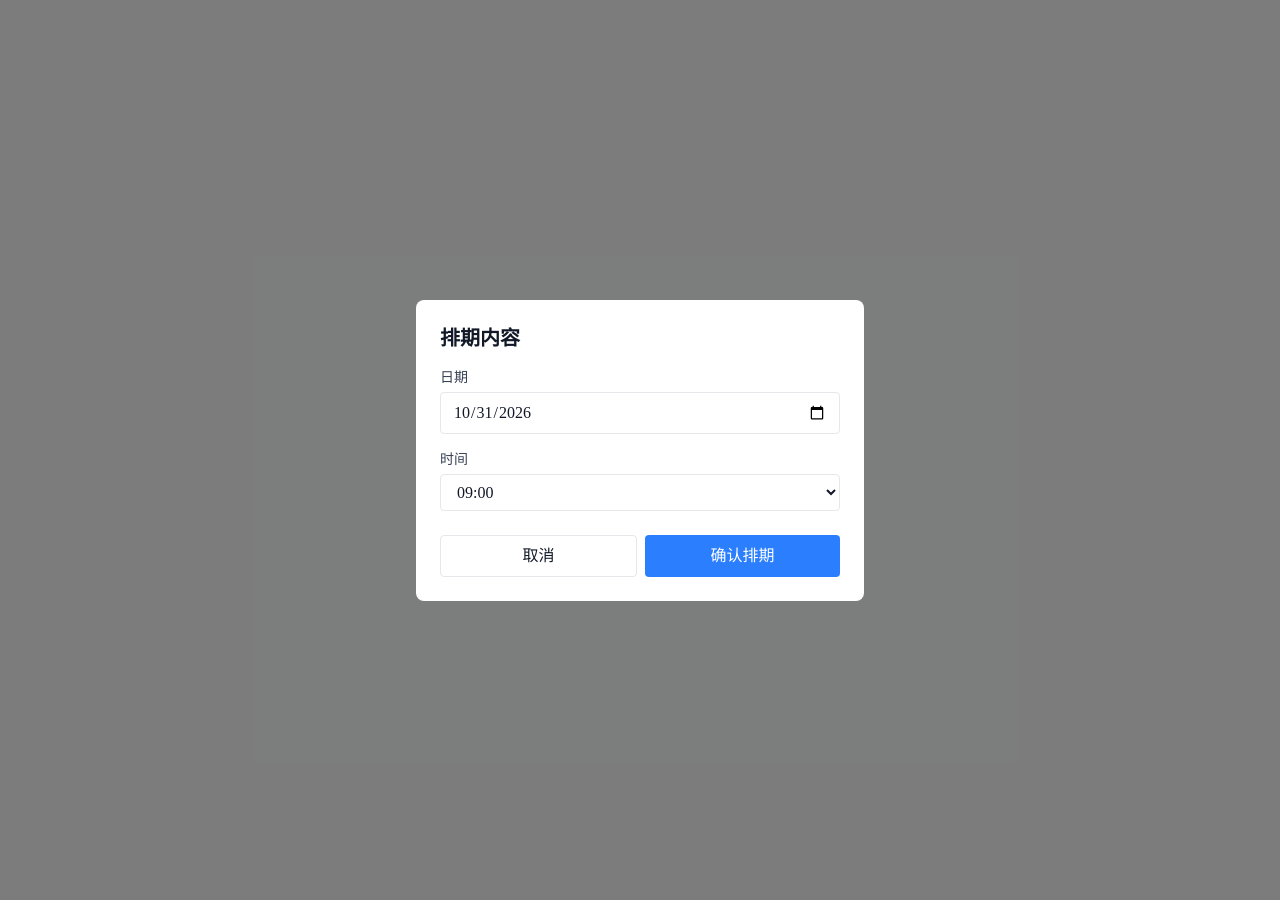
Test: ScheduleDialog › should show preview when date is selected
The image size is (1280, 900).
In the date field: coordinates (640, 412) [440,392,840,434], type "2025-01-15"
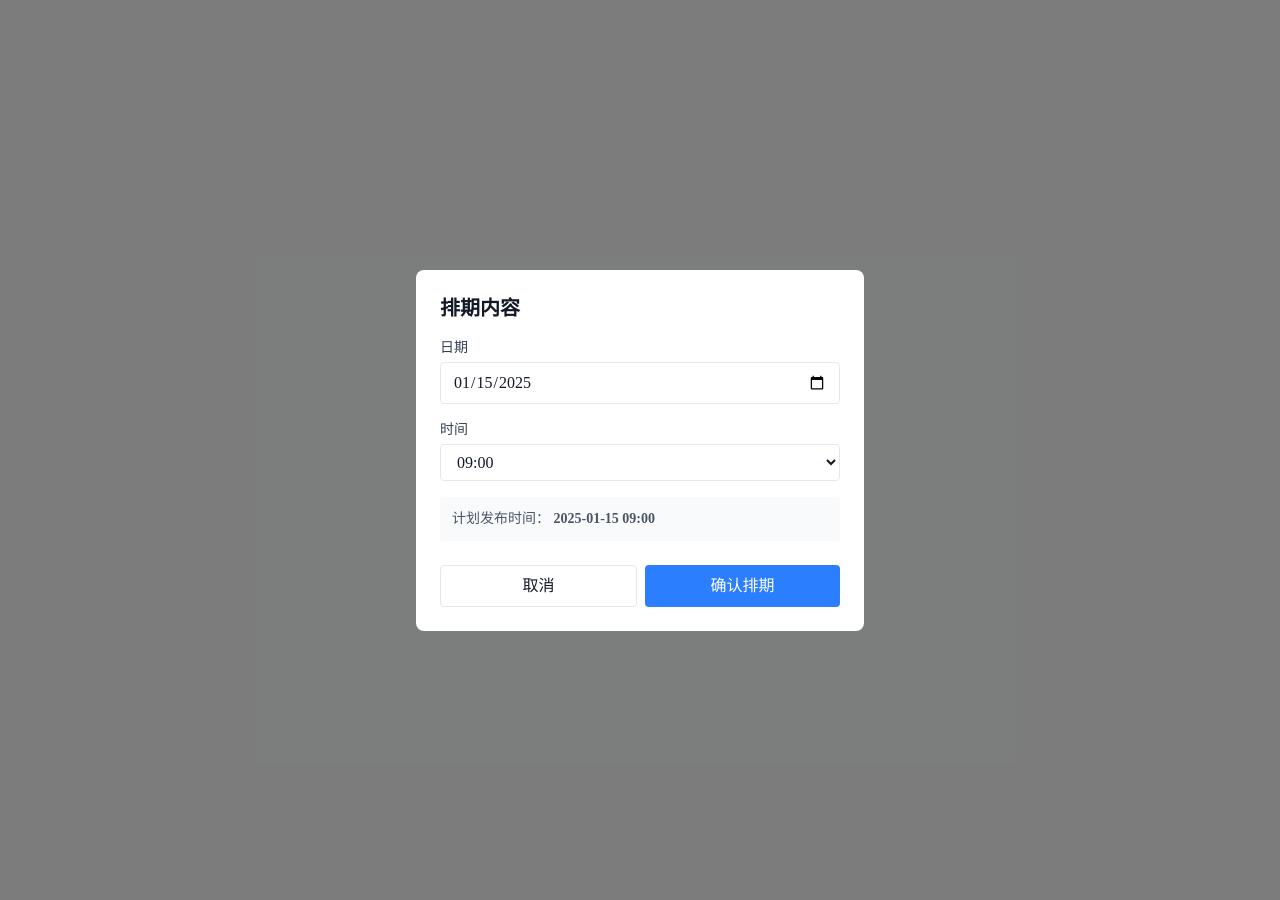
Now the text "计划发布时间： 2025-01-15 09:00" is shown, box [452,510,655,526]
